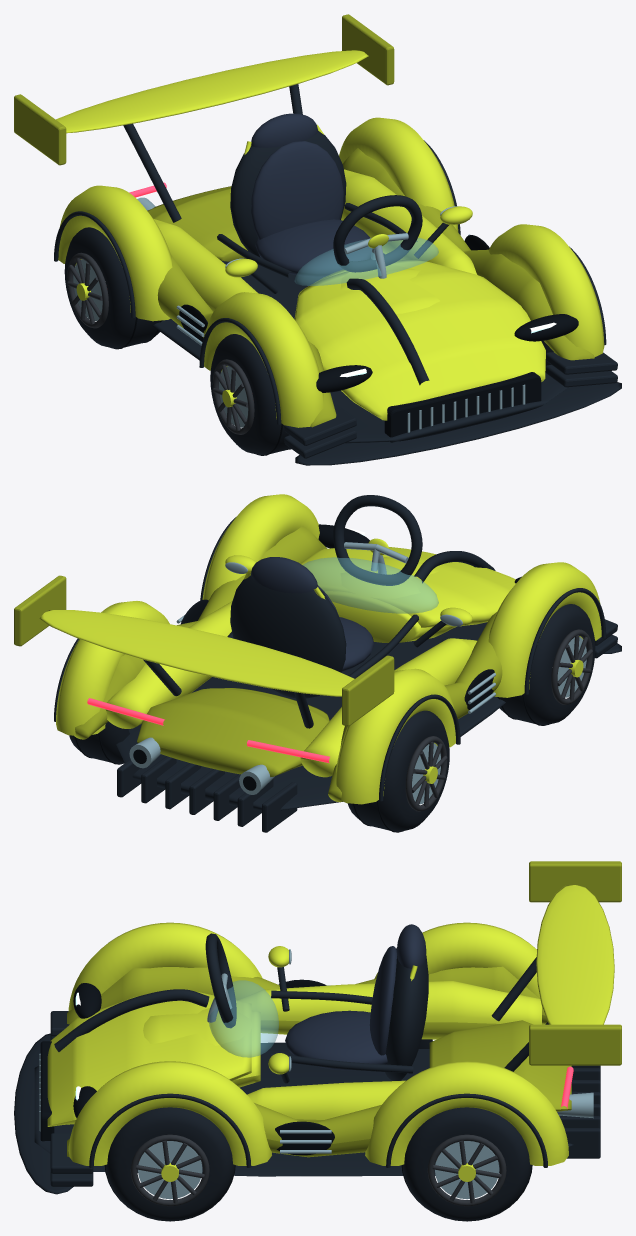
3 renders of one model, top to bottom at view 1: azimuth 30°, elevation 25°; view 2: azimuth 150°, elevation 25°; view 3: azimuth 270°, elevation 25°, orthographic.
Visible parts, largest first — view 1: Chassis_kart-gt-paint, Chassis_kart-gt-carbon, Chassis_kart-gt-deep-paint, Chassis_kart-gt-seat, Chassis_kart-gt-recess, Wheel_RL, Wheel_FL, Chassis, Steering, Wheel_RL_kart-gt-forged-rim, Wheel_FL_kart-gt-forged-rim, Chassis_kart-gt-titanium; view 2: Chassis_kart-gt-paint, Chassis_kart-gt-carbon, Chassis_kart-gt-deep-paint, Chassis, Wheel_RL, Wheel_FL, Chassis_kart-gt-seat, Steering, Chassis_kart-gt-titanium, Wheel_RL_kart-gt-forged-rim, Wheel_FL_kart-gt-forged-rim, Chassis_kart-gt-recess (+3 smaller); view 3: Chassis_kart-gt-paint, Chassis_kart-gt-carbon, Chassis_kart-gt-deep-paint, Wheel_RR, Wheel_FR, Chassis_kart-gt-seat, Chassis, Chassis_kart-gt-recess, Wheel_RR_kart-gt-forged-rim, Wheel_FR_kart-gt-forged-rim, Chassis_kart-gt-titanium, Steering.
Boxes of the visible parts, <box> form: Chassis_kart-gt-paint: <box>56,50,604,427</box>; Chassis_kart-gt-carbon: <box>54,84,621,465</box>; Chassis_kart-gt-deep-paint: <box>14,14,594,427</box>; Chassis_kart-gt-seat: <box>251,113,372,277</box>; Chassis_kart-gt-recess: <box>179,235,578,442</box>; Wheel_RL: <box>64,227,162,348</box>; Wheel_FL: <box>210,334,290,455</box>; Chassis: <box>294,237,438,285</box>; Steering: <box>333,195,422,272</box>; Wheel_RL_kart-gt-forged-rim: <box>67,252,108,328</box>; Wheel_FL_kart-gt-forged-rim: <box>212,359,254,434</box>; Chassis_kart-gt-titanium: <box>137,197,525,432</box>; Chassis_kart-gt-paint: <box>39,494,601,804</box>; Chassis_kart-gt-carbon: <box>54,517,621,832</box>; Chassis_kart-gt-deep-paint: <box>14,526,502,802</box>; Chassis: <box>303,557,438,613</box>; Wheel_RL: <box>347,710,449,831</box>; Wheel_FL: <box>497,604,595,725</box>; Chassis_kart-gt-seat: <box>251,557,374,671</box>; Steering: <box>333,495,422,585</box>; Chassis_kart-gt-titanium: <box>129,552,495,794</box>; Wheel_RL_kart-gt-forged-rim: <box>405,736,447,811</box>; Wheel_FL_kart-gt-forged-rim: <box>551,629,592,704</box>; Chassis_kart-gt-recess: <box>133,524,521,790</box>; Chassis_kart-gt-paint: <box>47,885,614,1165</box>; Chassis_kart-gt-carbon: <box>14,948,600,1194</box>; Chassis_kart-gt-deep-paint: <box>67,861,621,1157</box>; Wheel_RR: <box>402,1107,531,1221</box>; Wheel_FR: <box>105,1107,234,1221</box>; Chassis_kart-gt-seat: <box>285,924,426,1070</box>; Chassis: <box>208,980,278,1057</box>; Chassis_kart-gt-recess: <box>40,979,334,1155</box>; Wheel_RR_kart-gt-forged-rim: <box>427,1134,506,1206</box>; Wheel_FR_kart-gt-forged-rim: <box>130,1134,209,1206</box>; Chassis_kart-gt-titanium: <box>39,949,593,1153</box>; Steering: <box>205,933,236,1028</box>.
Bounding box in the file's own units: 3.21 × 1.85 × 4.71.
